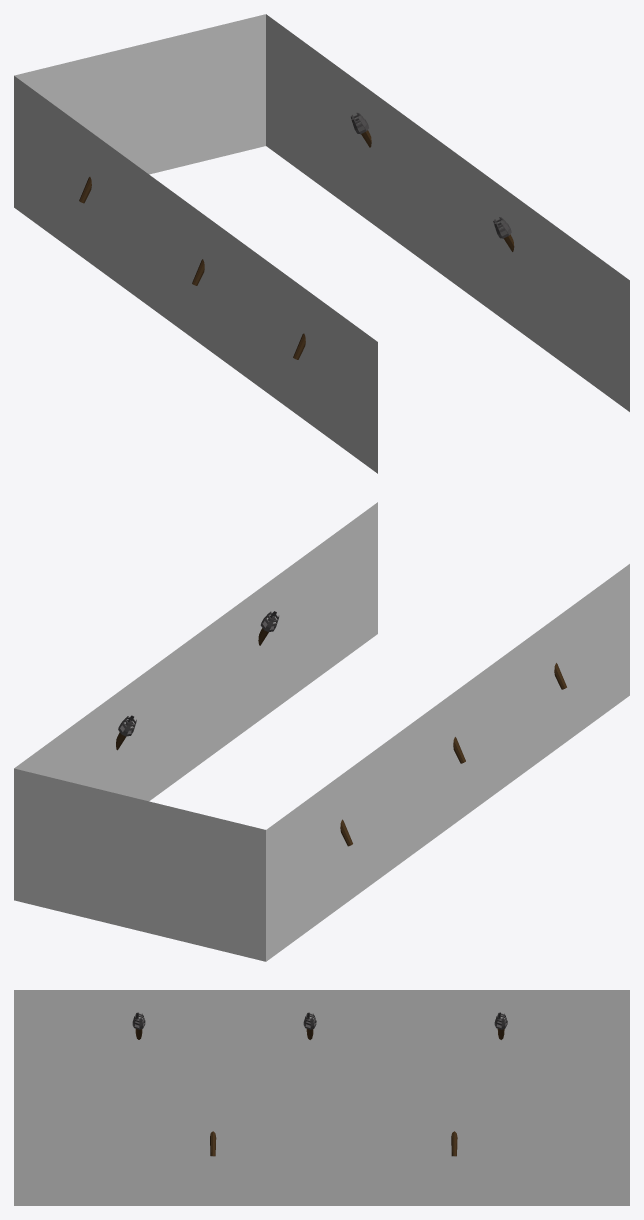
File: cos.fbx
3 renders of one model, top to bottom at view 1: azimuth 30°, elevation 25°; view 2: azimuth 150°, elevation 25°; view 3: azimuth 270°, elevation 25°, orthographic. The views are drawn at different scales.
Visible parts, largest first — view 1: Plane.009, Plane.006, Plane.007, Plane.002, Plane.011, Plane.001, Plane.005, Plane.010, Plane.003, Plane.008, Plane.004, Plane; view 2: Plane, Plane.009, Plane.006, Plane.003, Plane.010, Plane.011, Plane.005, Plane.001, Plane.007, Plane.008, Plane.004, Plane.002; view 3: Plane.002, Plane.006, Plane.011, Plane.004, Plane.008, Plane.010, Plane.001, Plane.003, Plane.005, Plane.007.
Part boxes in pixels (x1,y1,x2,y2): Plane.009: [140, 14, 265, 174]; Plane.006: [411, 121, 484, 305]; Plane.007: [86, 129, 159, 313]; Plane.002: [266, 14, 338, 198]; Plane.011: [557, 227, 629, 411]; Plane.001: [305, 289, 377, 473]; Plane.005: [159, 182, 232, 366]; Plane.010: [14, 76, 86, 260]; Plane.003: [232, 235, 304, 420]; Plane.008: [484, 174, 557, 358]; Plane.004: [339, 67, 411, 252]; Plane: [14, 45, 139, 167]; Plane: [140, 799, 265, 961]; Plane.009: [14, 768, 139, 930]; Plane.006: [159, 609, 232, 793]; Plane.003: [484, 617, 557, 801]; Plane.010: [266, 777, 338, 961]; Plane.011: [305, 502, 377, 686]; Plane.005: [411, 670, 484, 854]; Plane.001: [557, 564, 629, 748]; Plane.007: [339, 723, 411, 908]; Plane.008: [232, 555, 304, 740]; Plane.004: [86, 662, 159, 801]; Plane.002: [14, 715, 86, 785]; Plane.002: [506, 1094, 629, 1205]; Plane.006: [260, 1094, 383, 1205]; Plane.011: [14, 1094, 137, 1205]; Plane.004: [383, 1094, 506, 1205]; Plane.008: [137, 1094, 260, 1205]; Plane.010: [506, 990, 629, 1094]; Plane.001: [14, 990, 137, 1094]; Plane.003: [137, 990, 260, 1094]; Plane.005: [260, 990, 383, 1094]; Plane.007: [383, 990, 506, 1094].
Bounding box in the file's own units: 1685 × 775 × 3873.
